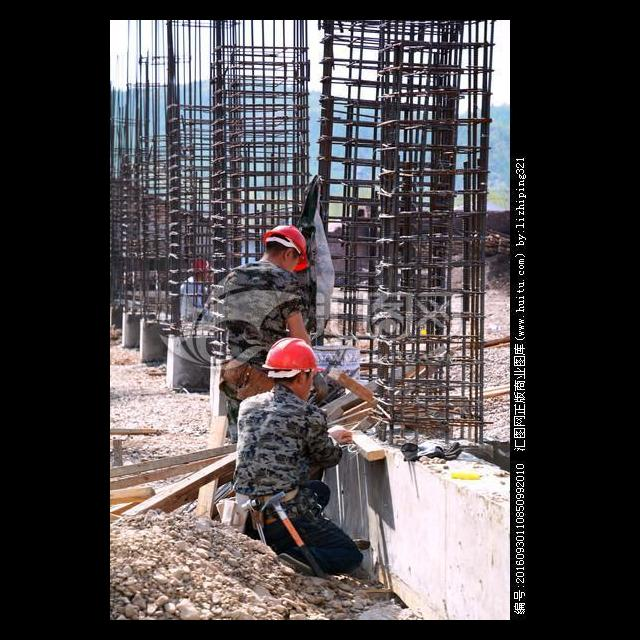Hardhat: (264, 335, 326, 379), (262, 225, 310, 275), (187, 255, 213, 272)
NO-Mask: (280, 257, 298, 274), (300, 382, 312, 400)
NO-Safety Vest: (233, 393, 322, 511), (214, 261, 295, 369), (181, 282, 207, 322)
Person: (227, 340, 364, 581), (218, 222, 311, 426), (182, 256, 214, 330)
